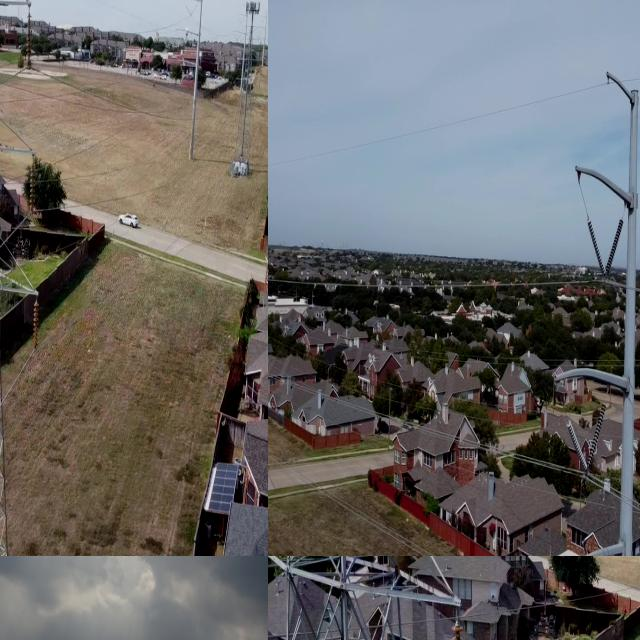杆塔: (0, 0, 48, 556), (268, 556, 475, 640), (233, 0, 262, 177)
正常绝缘子: (585, 403, 608, 472), (586, 216, 608, 279), (603, 218, 625, 279), (24, 146, 41, 223), (566, 418, 589, 473), (26, 288, 42, 367), (22, 0, 36, 78), (445, 608, 469, 640)
